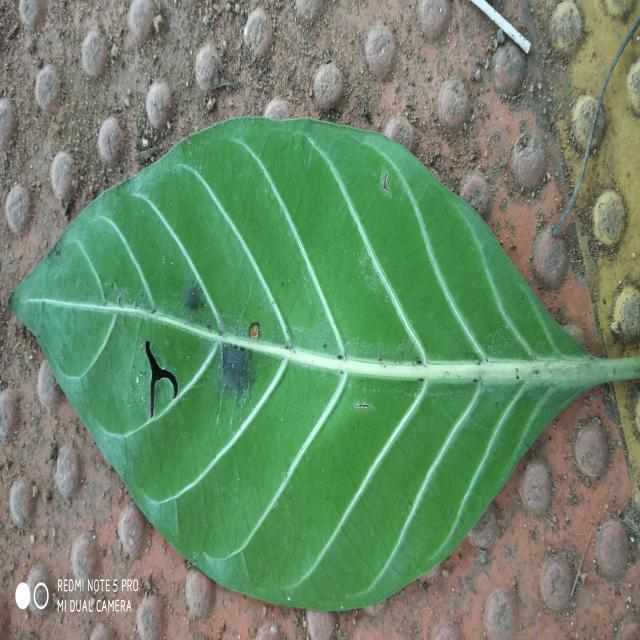leaf: (8, 114, 639, 612)
